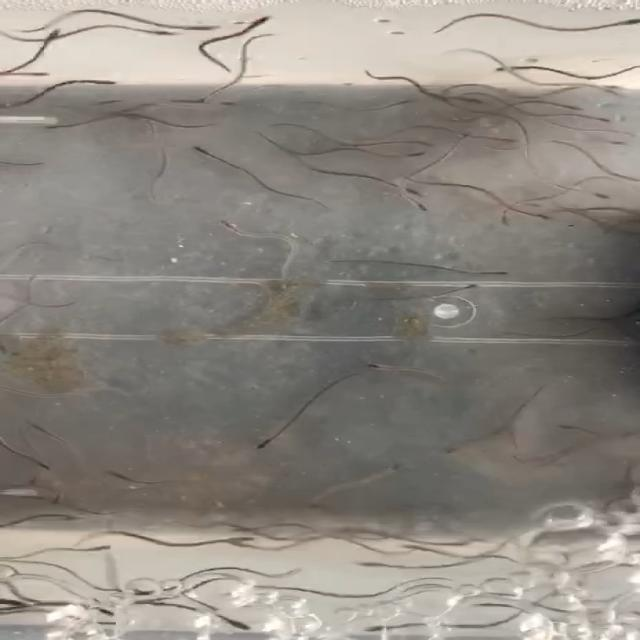active_glass_eel: (229, 13, 285, 31), (108, 583, 162, 599), (24, 414, 55, 439), (72, 540, 116, 557), (390, 144, 429, 163), (394, 179, 429, 200), (377, 93, 420, 110), (542, 98, 586, 114), (167, 18, 217, 32), (260, 568, 310, 582), (73, 605, 126, 618), (214, 617, 256, 633), (220, 535, 266, 549), (99, 469, 141, 484), (351, 558, 396, 572), (608, 13, 640, 31), (434, 442, 470, 458), (472, 267, 513, 281), (524, 209, 564, 223), (577, 188, 617, 202), (218, 217, 250, 234), (233, 524, 286, 534), (128, 27, 176, 38), (595, 82, 628, 98), (362, 360, 406, 372), (362, 620, 395, 636), (488, 130, 522, 145), (373, 462, 407, 477), (41, 26, 62, 50), (190, 142, 218, 160), (26, 451, 51, 471), (486, 63, 531, 74), (14, 67, 51, 80), (255, 435, 279, 455), (458, 92, 490, 106), (495, 208, 517, 228), (580, 112, 616, 124), (399, 198, 426, 214), (393, 136, 435, 146), (197, 99, 240, 108), (451, 284, 483, 296), (82, 79, 117, 89), (197, 89, 216, 106), (50, 488, 66, 508), (603, 134, 627, 147), (344, 84, 381, 90)
